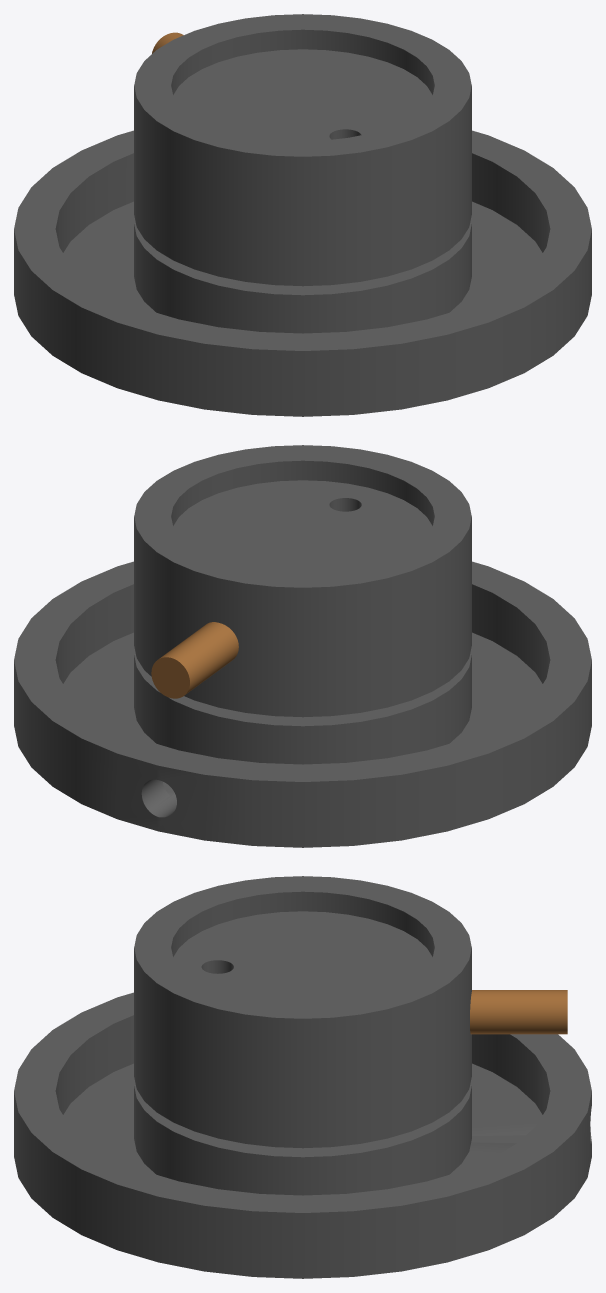
Rendered from StoneMill.fbx.
3 views of the same model, one above another, from view 1: azimuth 30°, elevation 25°; view 2: azimuth 150°, elevation 25°; view 3: azimuth 270°, elevation 25° (orthographic).
Visible parts, largest first — view 1: StoneMill; view 2: StoneMill; view 3: StoneMill.
Boxes of the visible parts, box(x1,y1,x2,y2) form: StoneMill: box(14, 14, 591, 416); StoneMill: box(14, 445, 591, 847); StoneMill: box(14, 876, 591, 1278).
Bounding box in the file's own units: 54.25 × 21.67 × 54.25.
